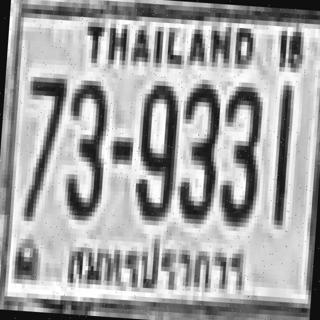N01: (270, 82, 293, 223)
N03: (174, 78, 220, 220), (60, 75, 106, 217), (216, 81, 262, 223)
N07: (18, 72, 65, 218)
N09: (132, 75, 178, 217)
P57: (59, 227, 248, 300)
